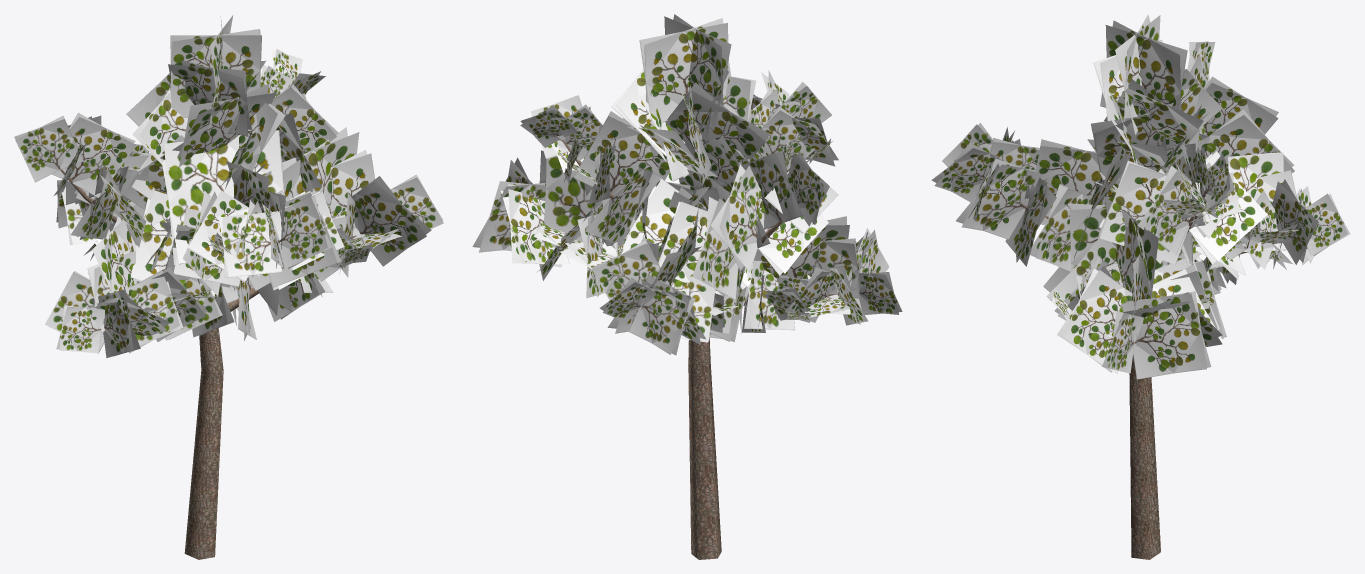
File: tree.8.fbx
3 views of the same model, side by side, from view 1: azimuth 30°, elevation 25°; view 2: azimuth 150°, elevation 25°; view 3: azimuth 270°, elevation 25° (orthographic).
Visible parts, largest first — view 1: tree.8; view 2: tree.8; view 3: tree.8.
Part boxes in pixels (<box>): tree.8: <box>14,15,443,559</box>; tree.8: <box>472,14,902,559</box>; tree.8: <box>931,14,1350,559</box>.
Size of the model in its own units: 477 by 604 by 432.
